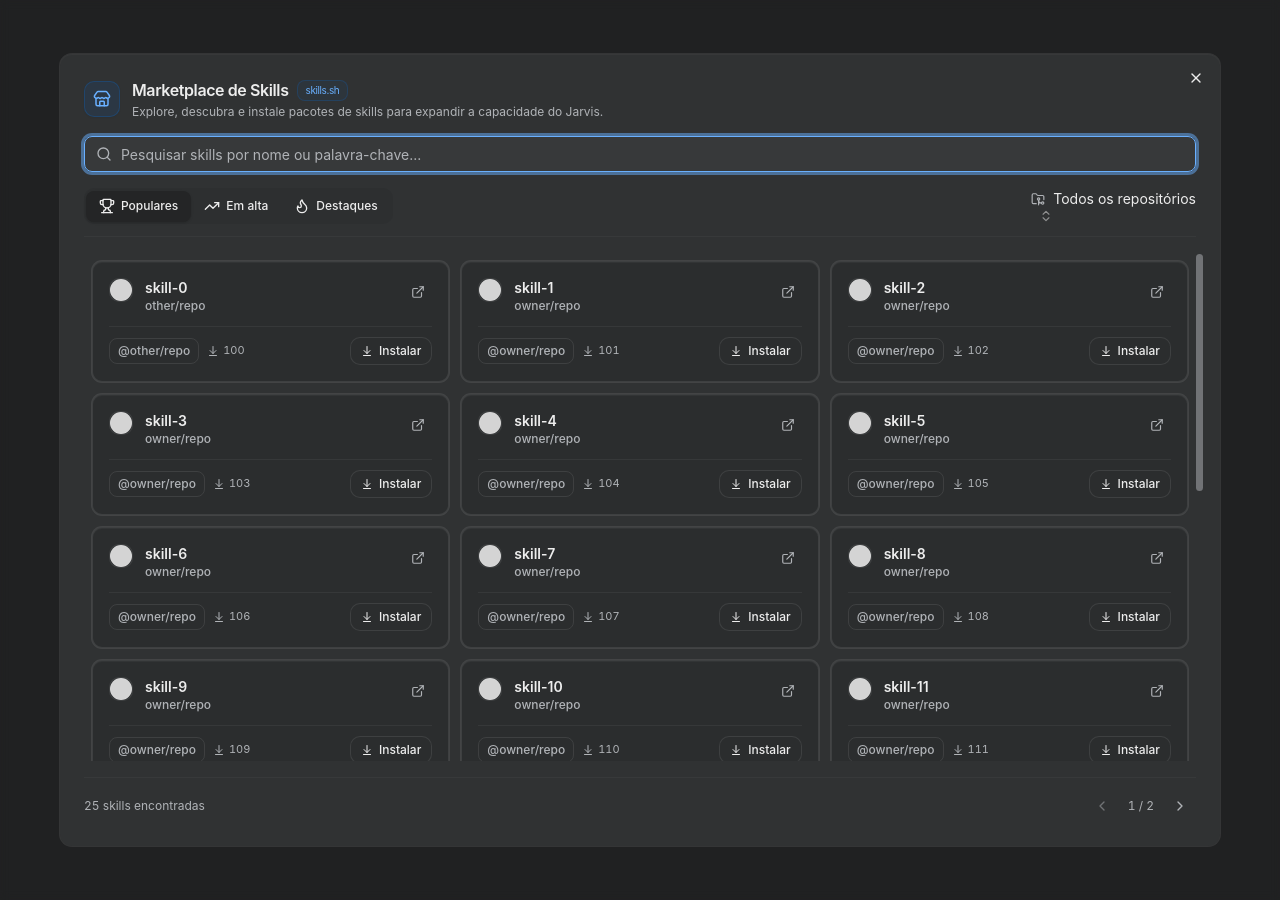
Test: SkillsMarketplace › filtra ao clicar na badge de repositório e abre link externo
Check: the button with aria-label "Ver skill-0" is shown, box [109,278,394,314]
// Clica no link externo
Step 1. Click the button named "Ver skill-0 no skills.sh" → (418, 292), box [404,278,432,306]
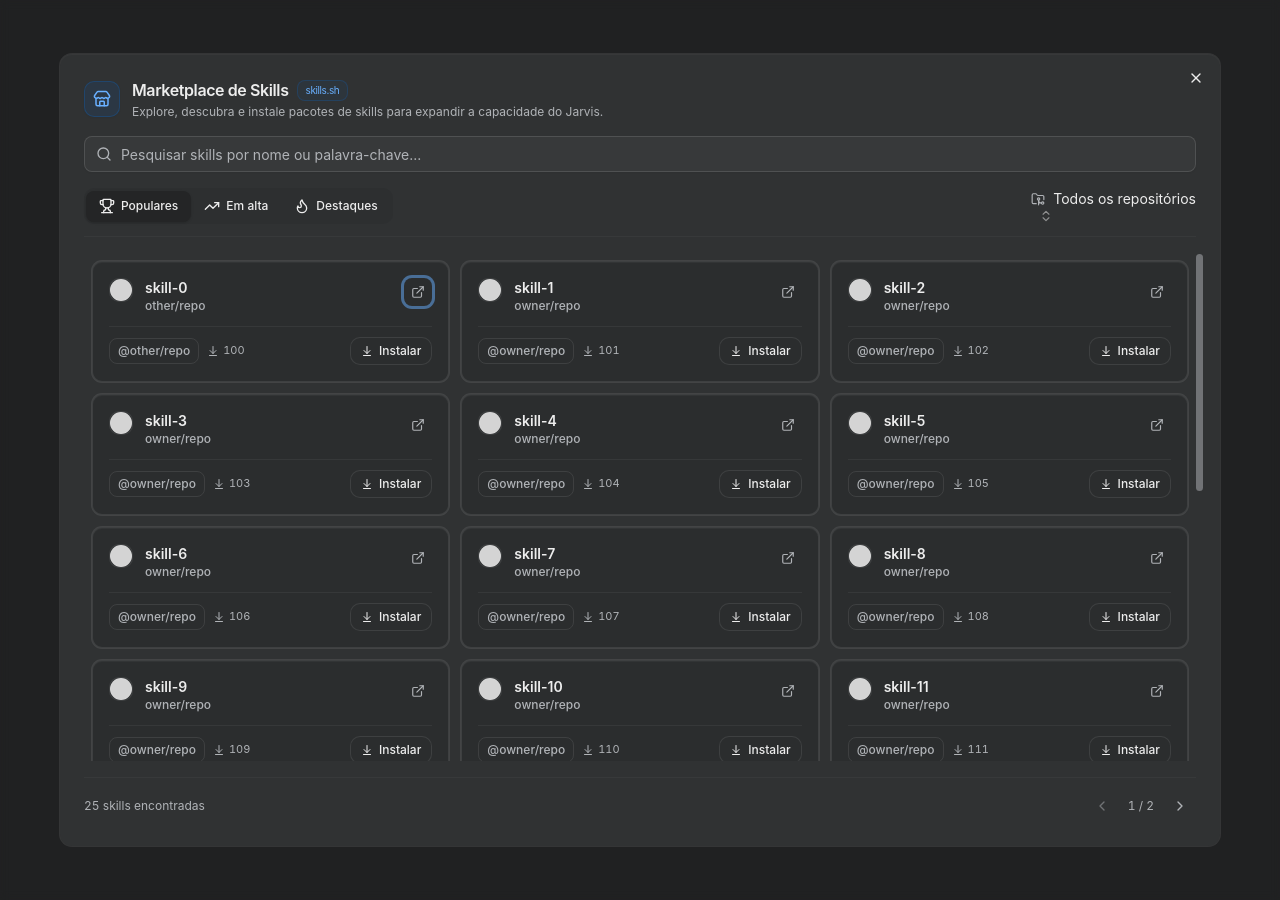
// Clica na badge @other/repo no card
Step 2. Click the button with aria-label "Filtrar por @other/repo" → (154, 351), box [109,338,199,364]
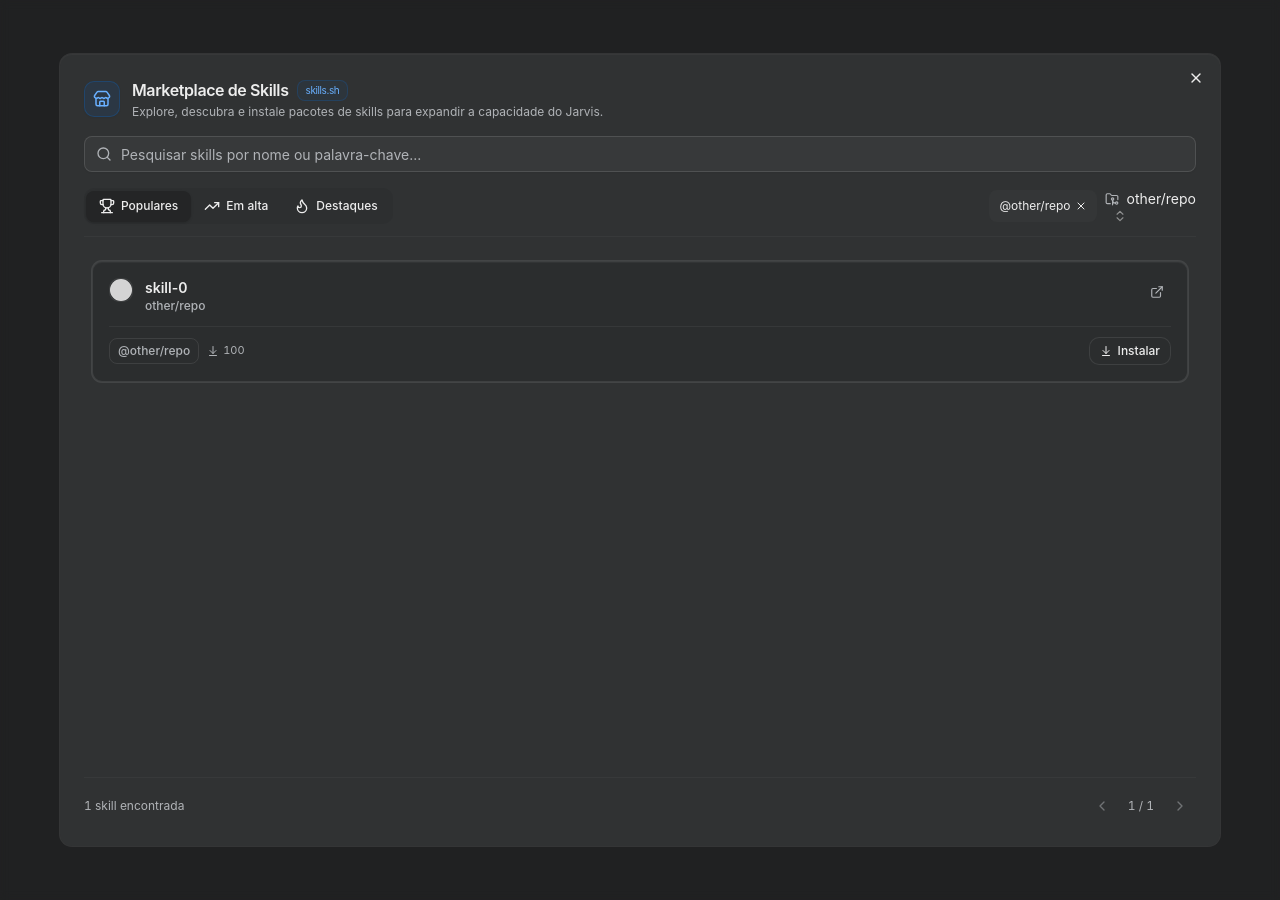
Check: the button with aria-label "Ver skill-0" is shown, box [109,278,1133,314]
// Limpa o filtro de repositório clicando no badge de remoção
Step 3. Click the button with aria-label "Limpar filtro de repositório" → (1043, 206), box [990,190,1097,222]
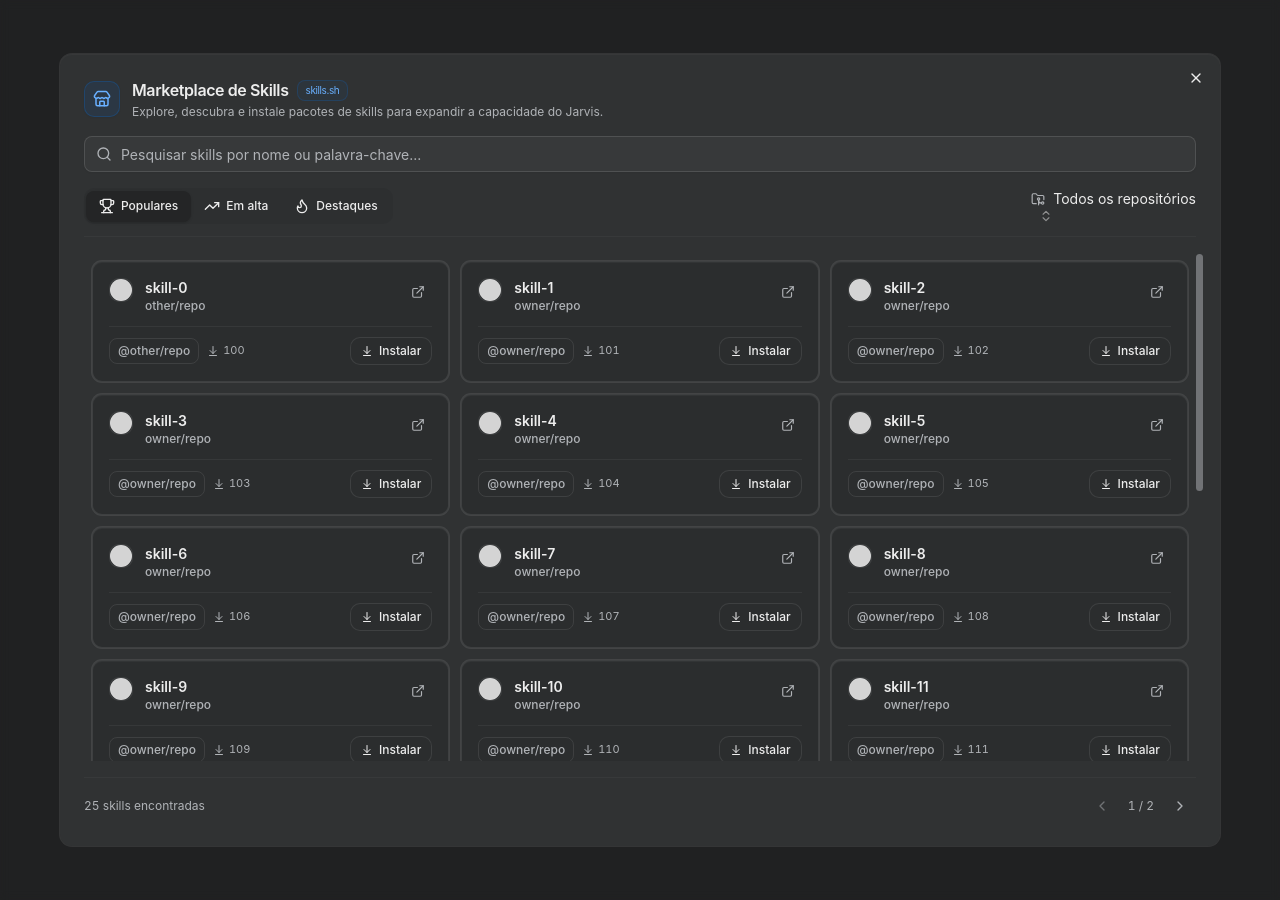
Check: the button with aria-label "Ver skill-1" is shown, box [478,278,764,314]
